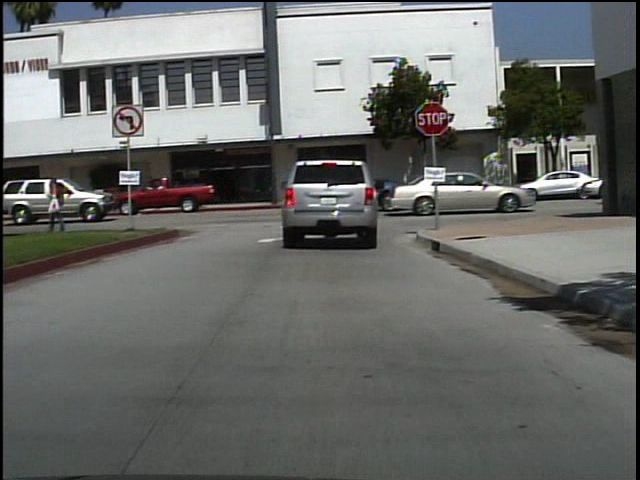person: (41, 172, 78, 236), (279, 161, 308, 236), (145, 172, 168, 211), (165, 172, 184, 209)
